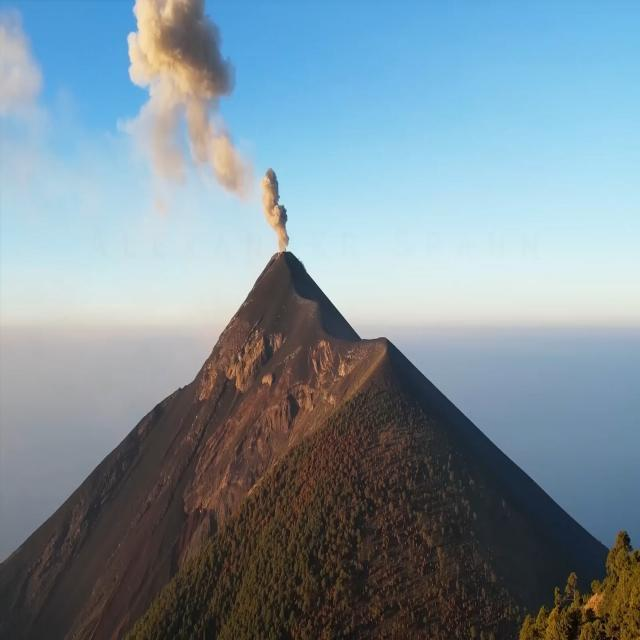Plume: (116, 0, 245, 211), (255, 159, 295, 254)
Summit: (179, 252, 409, 386)
